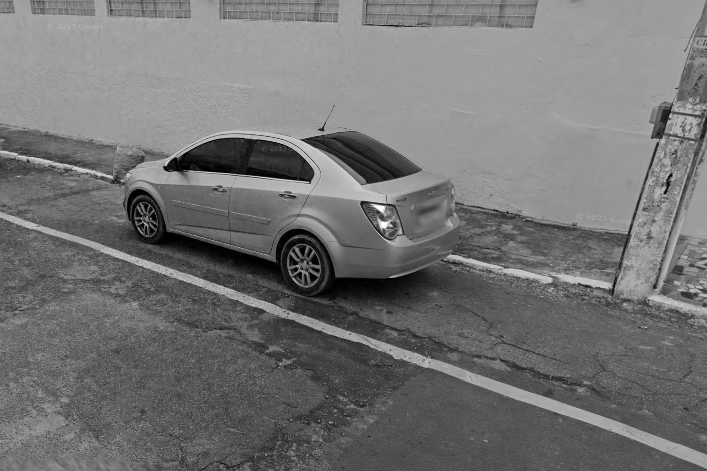car: (114, 103, 471, 303)
